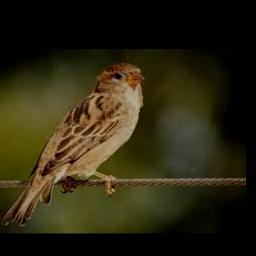Sparrow: (1, 62, 144, 226)
